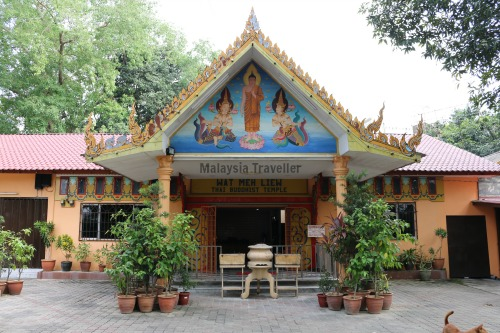Buddhist Temple: (111, 18, 354, 250)
